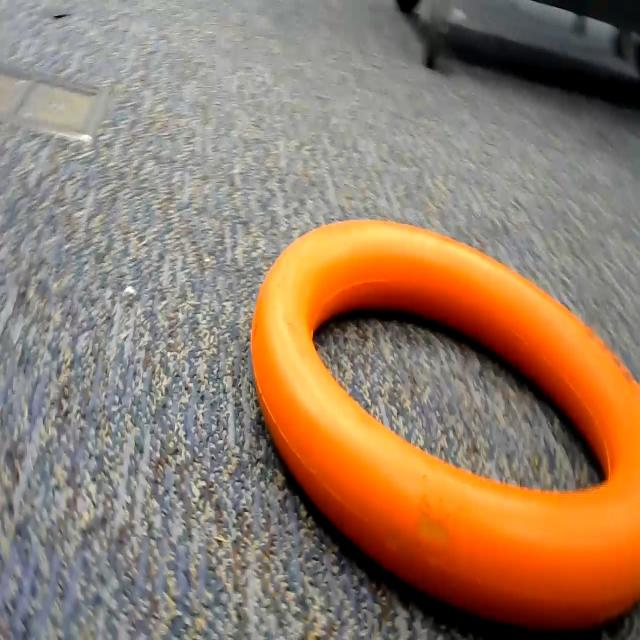note: (250, 200, 640, 640)
